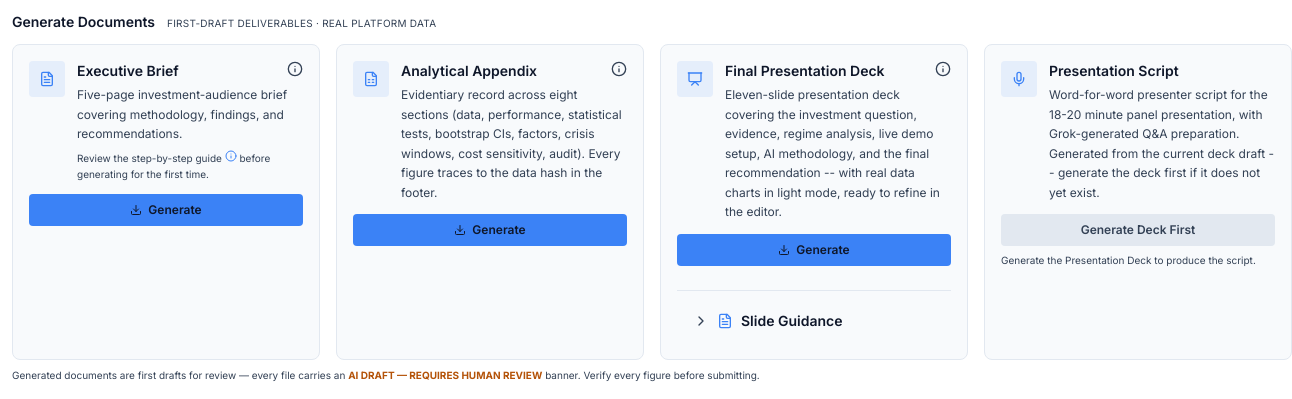
Test: DocumentGenerationPanel — async generation › shows the in-progress state with the navigate-away message
Click the button "Generate" below "Review the step-by-step guide" at (166, 210), box x1=29 y1=194 x2=303 y2=226
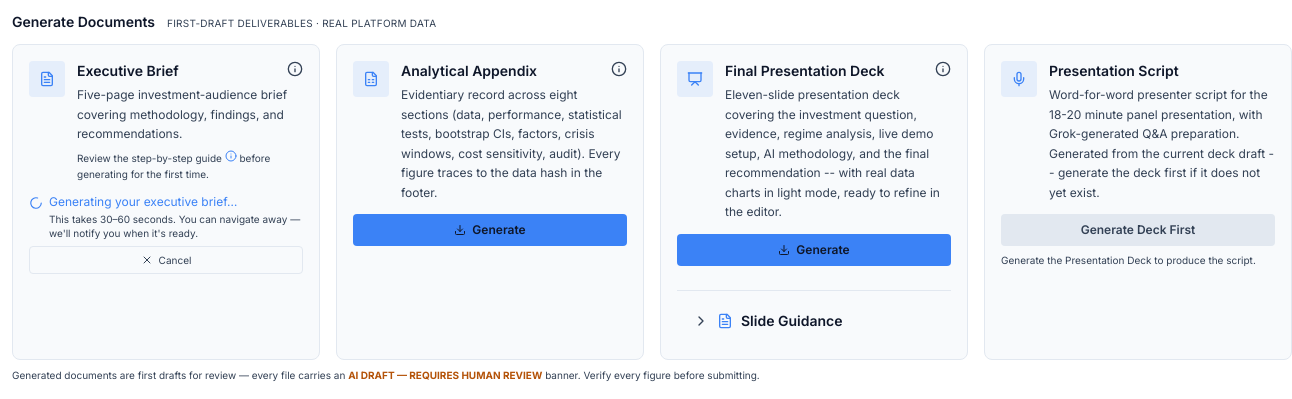
Expected: the text "Generating your" is shown, x1=49 y1=194 x2=144 y2=209
Expected: the text "You can navigate away" is shown, x1=49 y1=213 x2=300 y2=239
Expected: the button "Cancel" is shown, x1=29 y1=246 x2=303 y2=274
